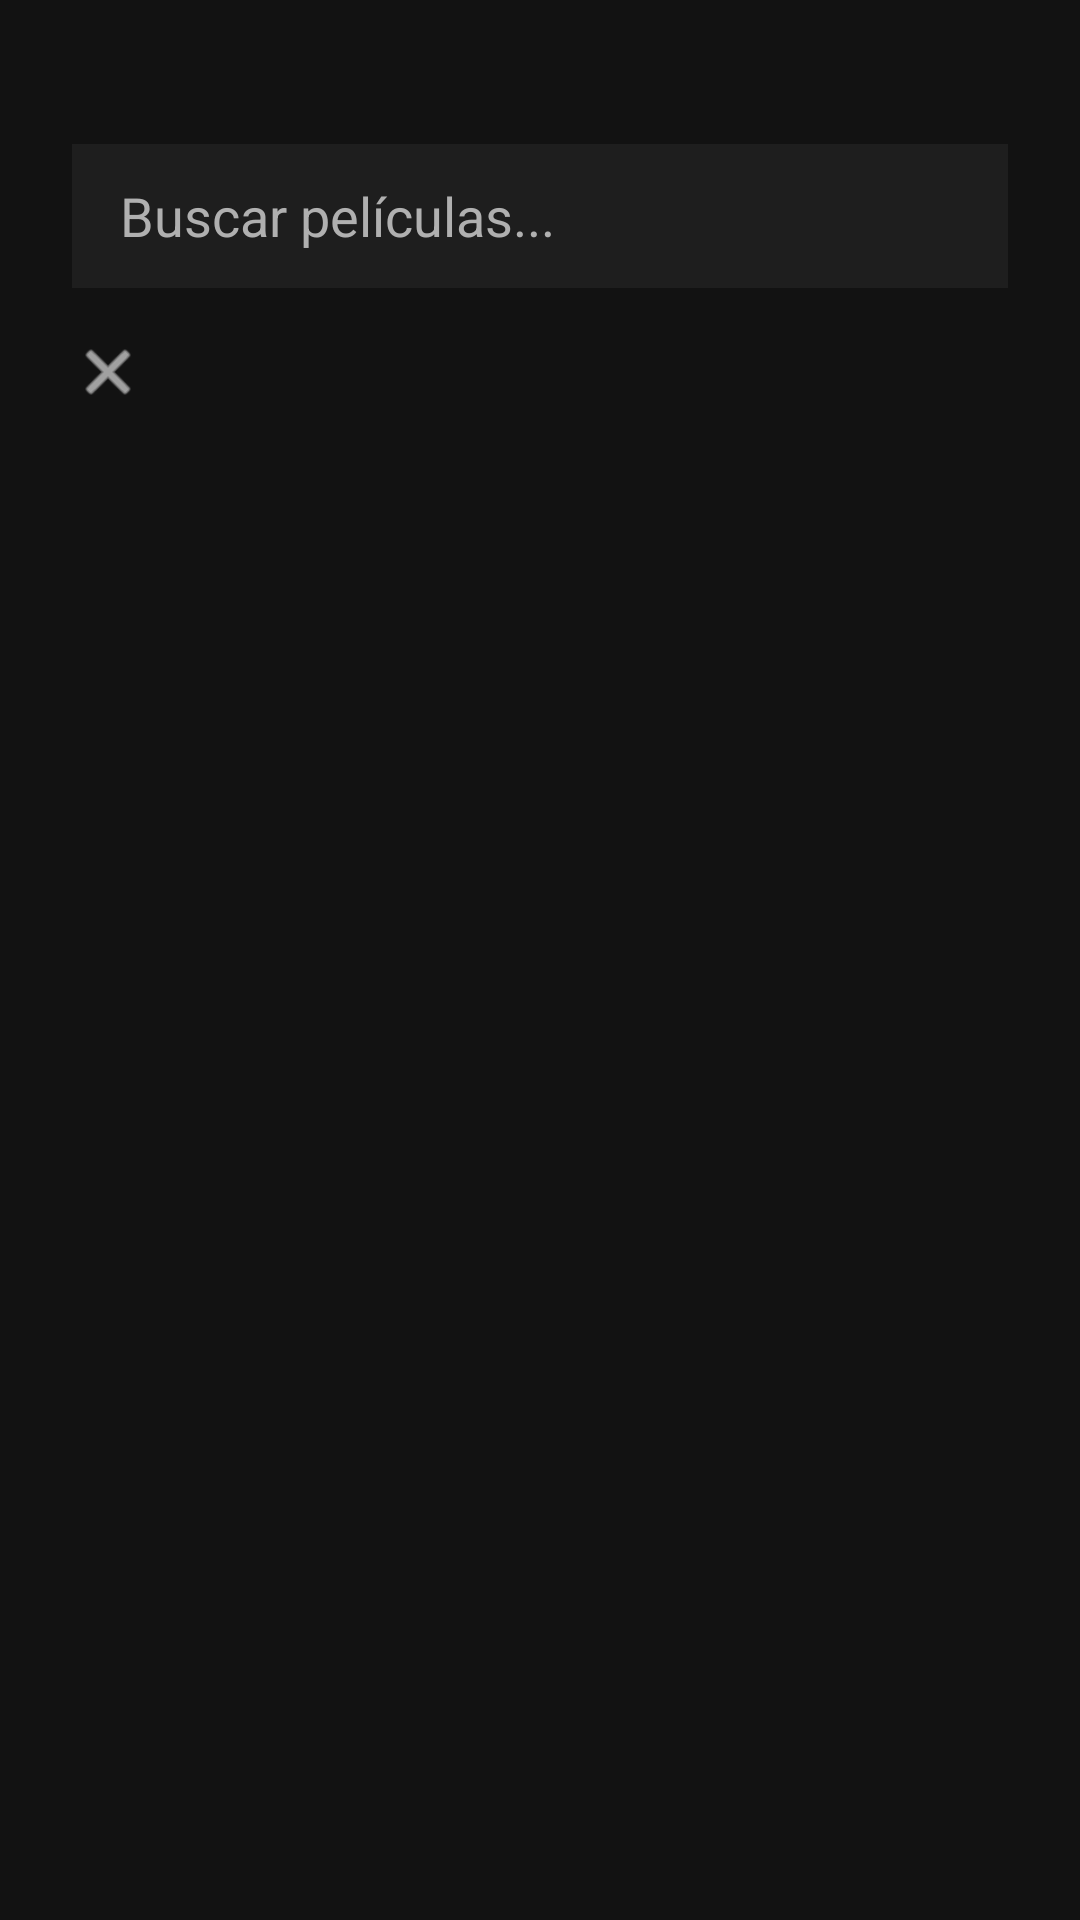

Icons on this 1080px x 1920px Android screen, each with the point to tap as [x,y]:
close clear cancel: [108,372]
